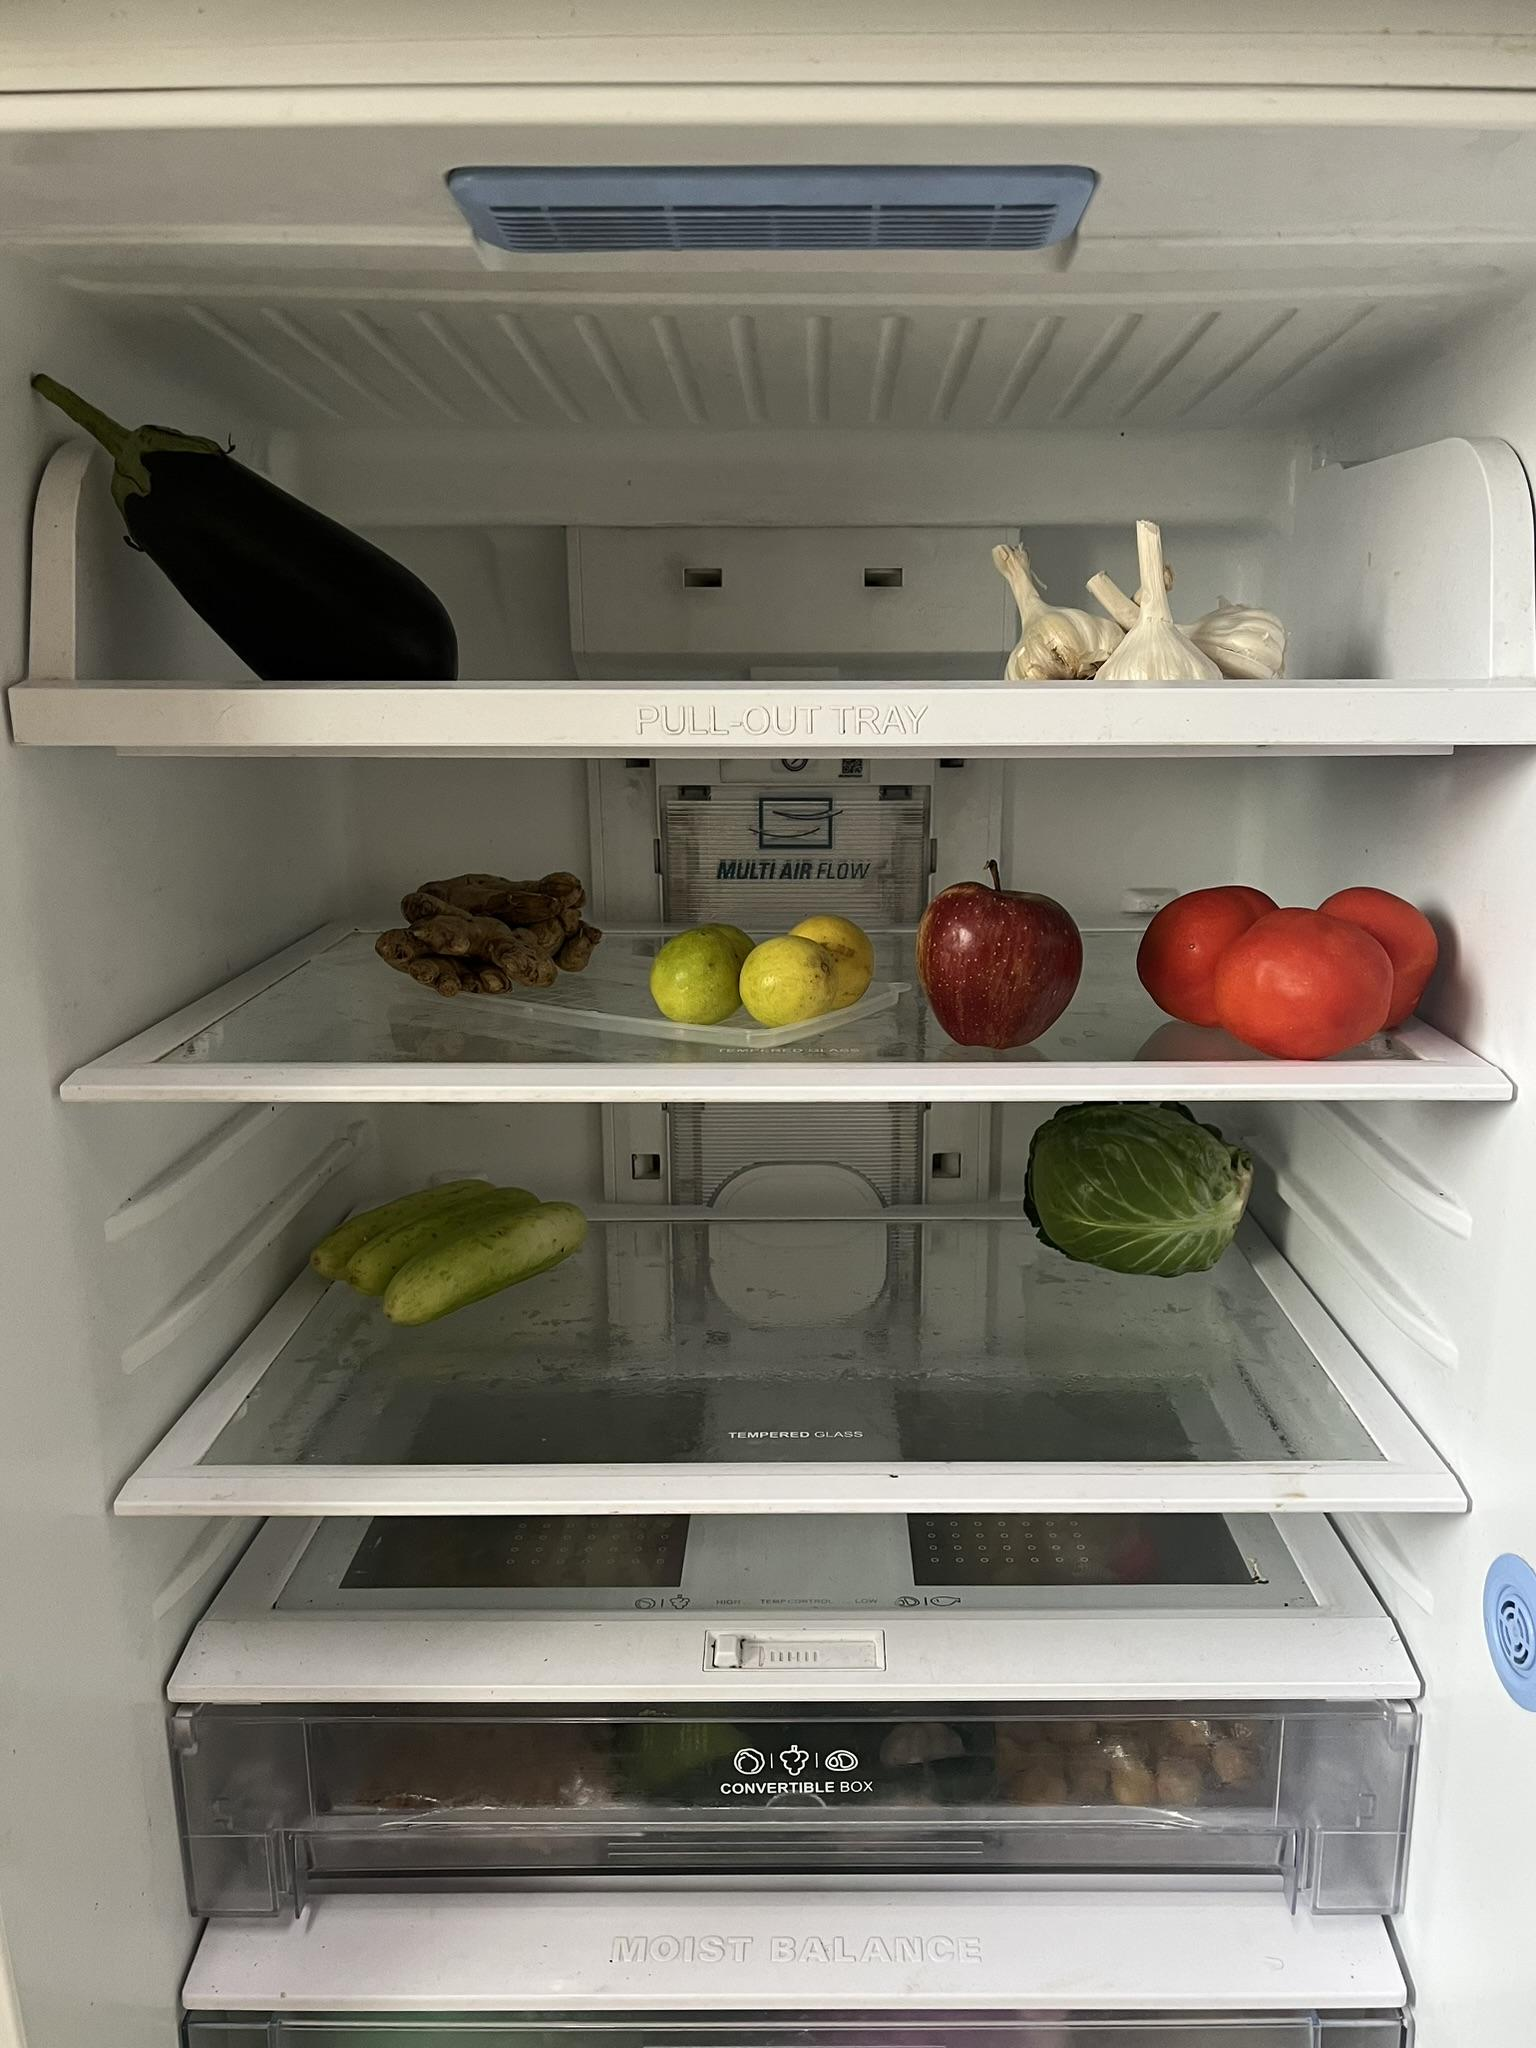apple: (913, 860, 1086, 1055)
bringal: (24, 360, 460, 677)
cabbage: (1020, 1098, 1263, 1279)
cucumber: (307, 1172, 594, 1326)
garlic: (992, 518, 1294, 677)
ginger: (381, 866, 607, 1001)
lemon: (657, 913, 884, 1024)
tomato: (1136, 884, 1444, 1059)
